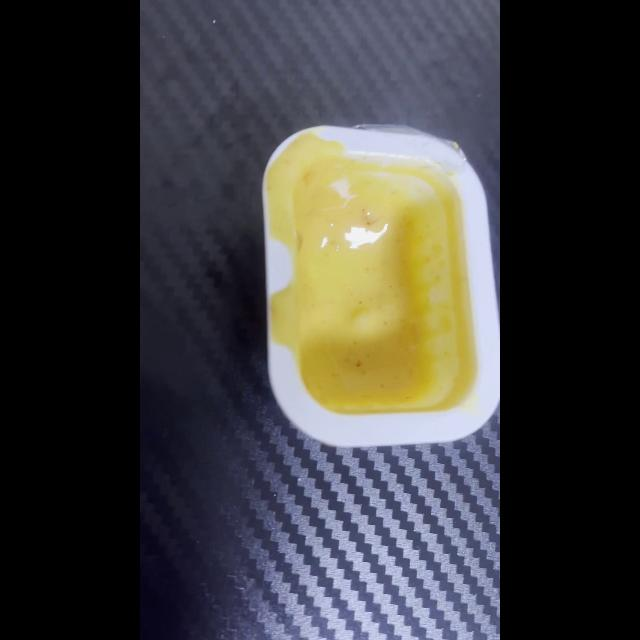dirty: (262, 126, 498, 446)
